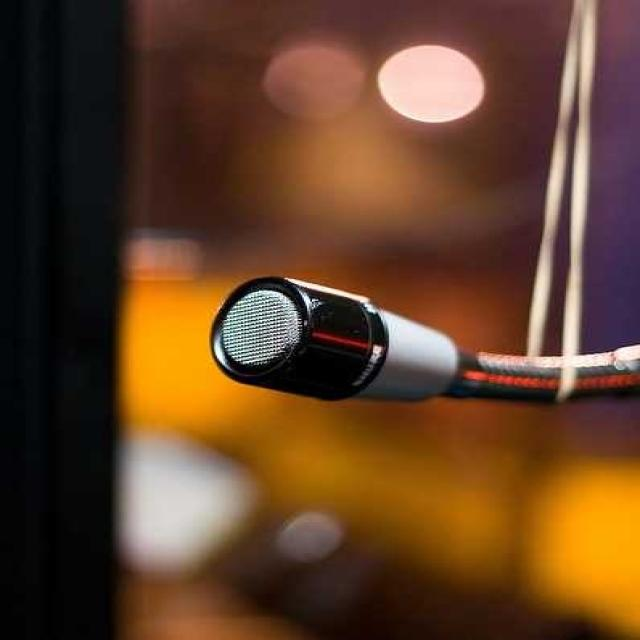microphone: (207, 272, 640, 411)
